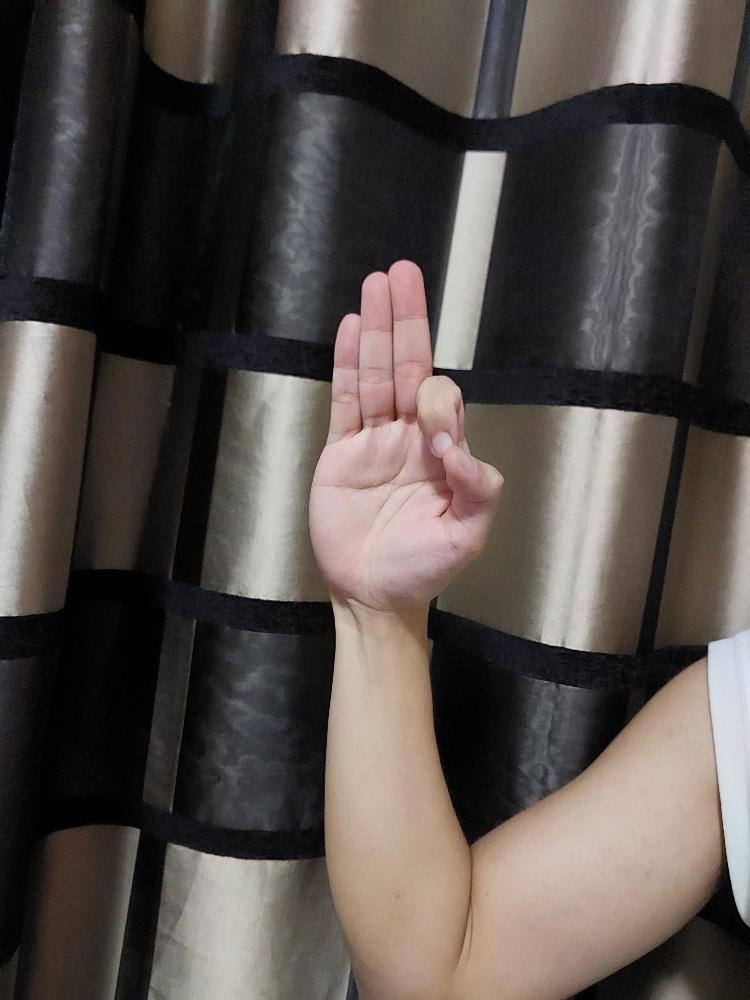f: (306, 257, 506, 615)
